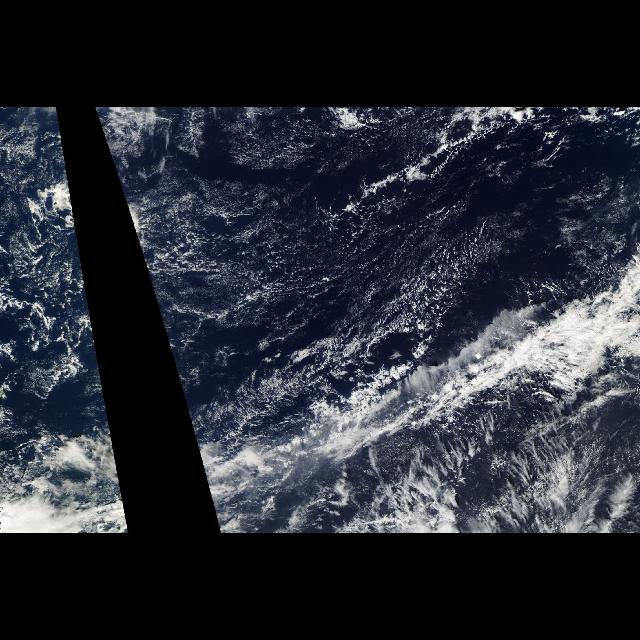Gravel: (150, 199, 358, 319)
